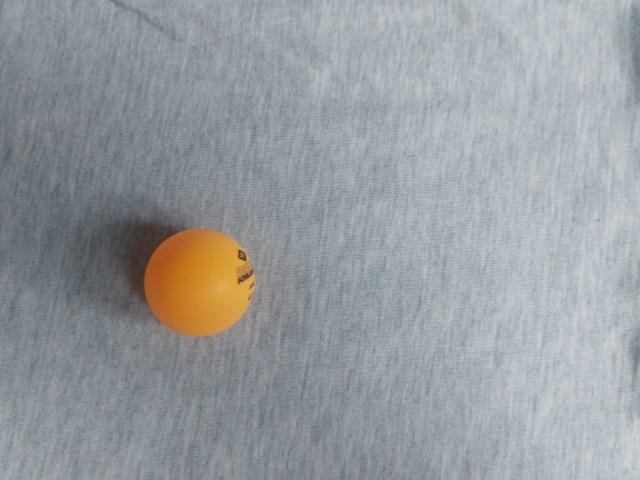oball: (376, 138, 502, 257)
